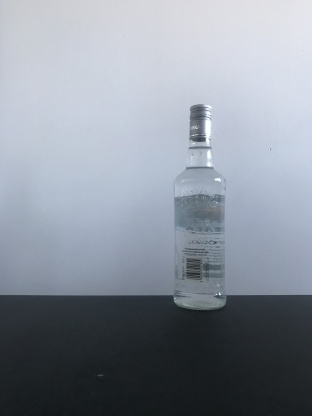nakretka: (188, 102, 213, 142)
